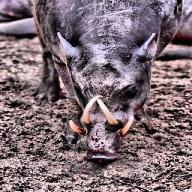boar: (28, 0, 185, 164)
